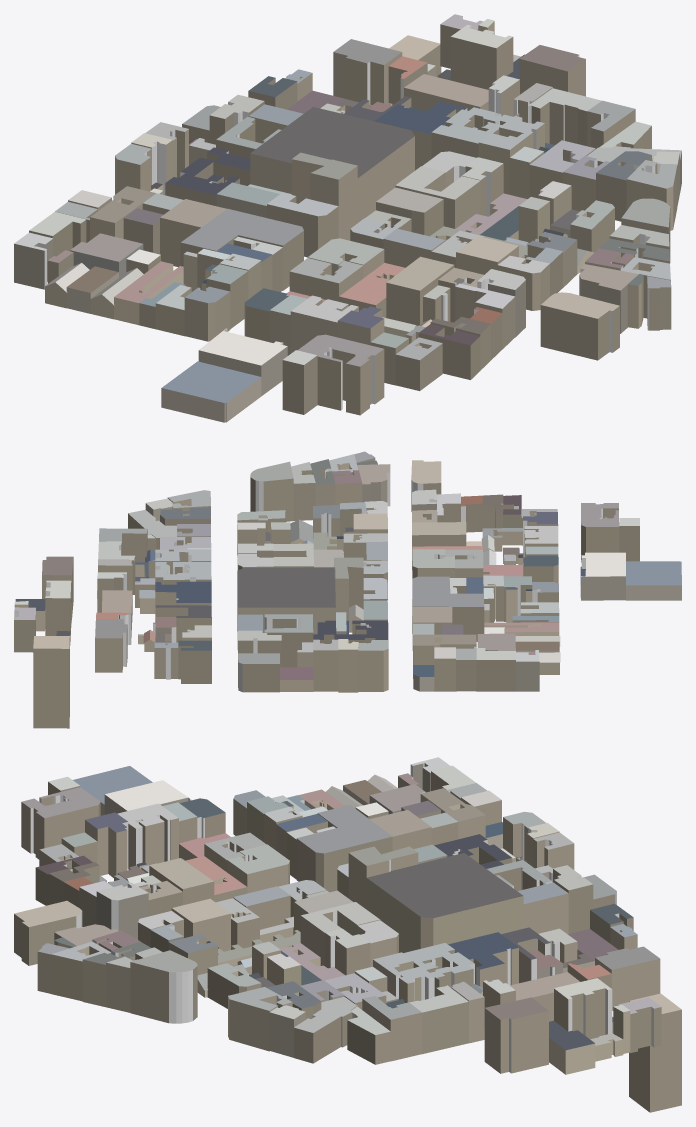
3 renders of one model, top to bottom at view 1: azimuth 30°, elevation 25°; view 2: azimuth 150°, elevation 25°; view 3: azimuth 270°, elevation 25°, orthographic. The views are drawn at different scales.
Parts seen in each view (by area): view 1: tuile; view 2: tuile; view 3: tuile.
Boxes of the visible parts, left/top/right/bottom form: tuile: left=14, top=14, right=681, bottom=422; tuile: left=14, top=451, right=681, bottom=728; tuile: left=14, top=757, right=681, bottom=1112.
Bounding box in the file's own units: 268 × 61.33 × 265.
